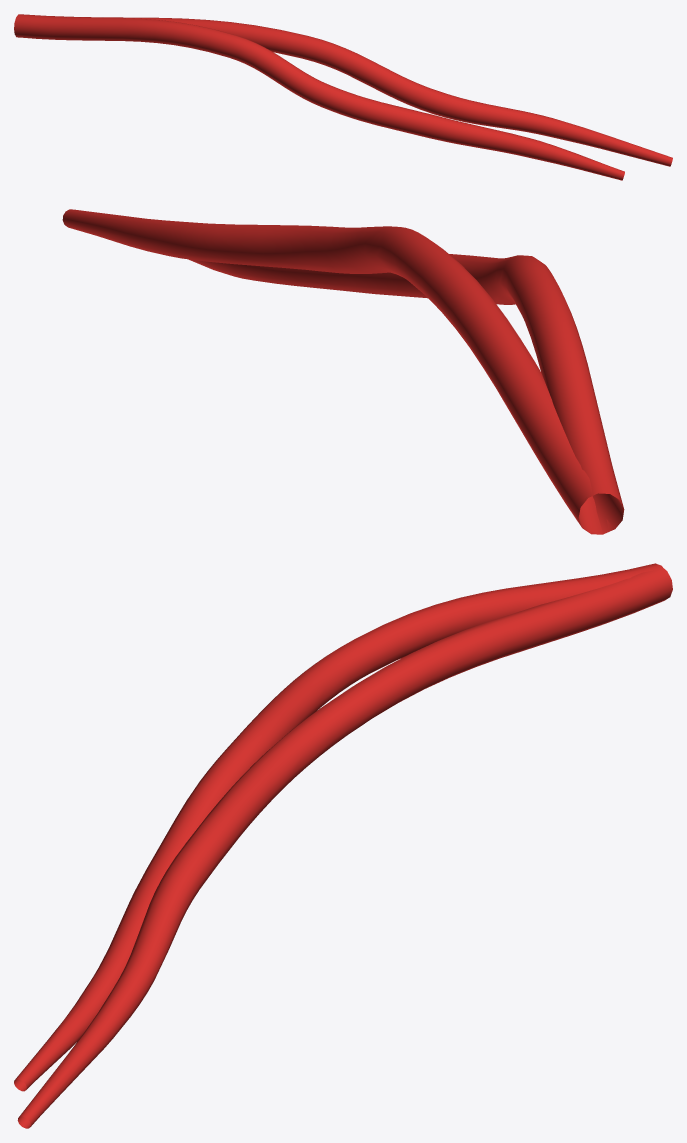
File: circulatorio-short-posterior-ciliary-arteries-l.glb
3 views of the same model, one above another, from view 1: azimuth 30°, elevation 25°; view 2: azimuth 150°, elevation 25°; view 3: azimuth 270°, elevation 25° (orthographic). The views are drawn at different scales.
Visible parts, largest first — view 1: Short posterior ciliary arteries.l; view 2: Short posterior ciliary arteries.l; view 3: Short posterior ciliary arteries.l.
Boxes of the visible parts, box(x1,y1,x2,y2) form: Short posterior ciliary arteries.l: box(14, 14, 672, 180); Short posterior ciliary arteries.l: box(62, 209, 624, 534); Short posterior ciliary arteries.l: box(14, 563, 672, 1128).
Bounding box in the file's own units: 0.0114 × 0.00329 × 0.0085.
